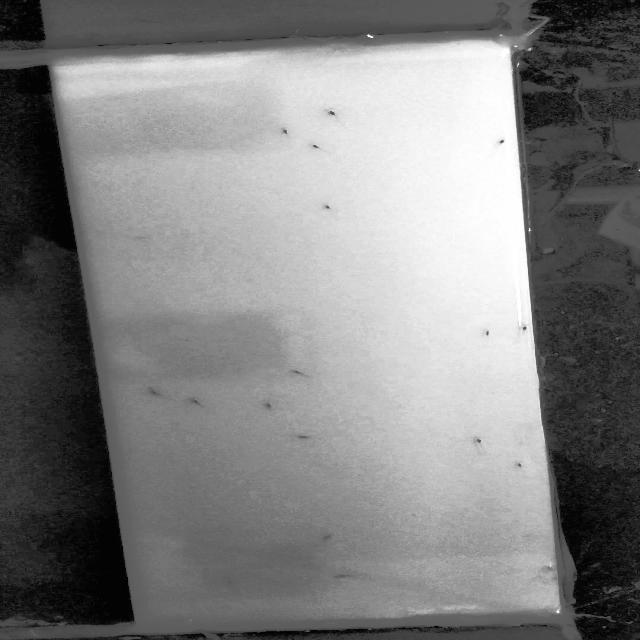shrimp: (468, 432, 496, 455), (481, 134, 512, 152), (285, 368, 321, 382), (220, 573, 250, 589), (187, 396, 212, 415), (272, 120, 298, 138), (143, 382, 169, 399), (291, 432, 328, 443), (510, 459, 533, 476), (302, 140, 334, 152), (332, 568, 358, 582), (318, 108, 348, 120), (312, 201, 338, 214), (261, 403, 283, 417), (482, 324, 499, 340), (514, 324, 532, 338), (319, 532, 341, 540)
